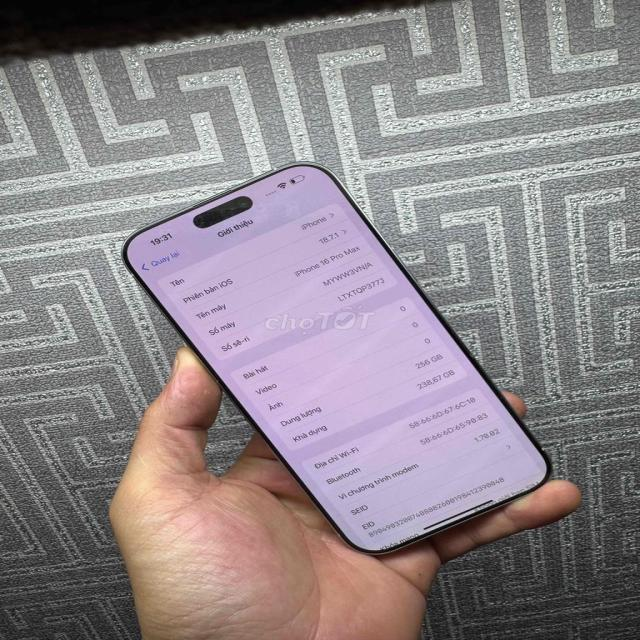gen_16: (122, 162, 548, 553)
